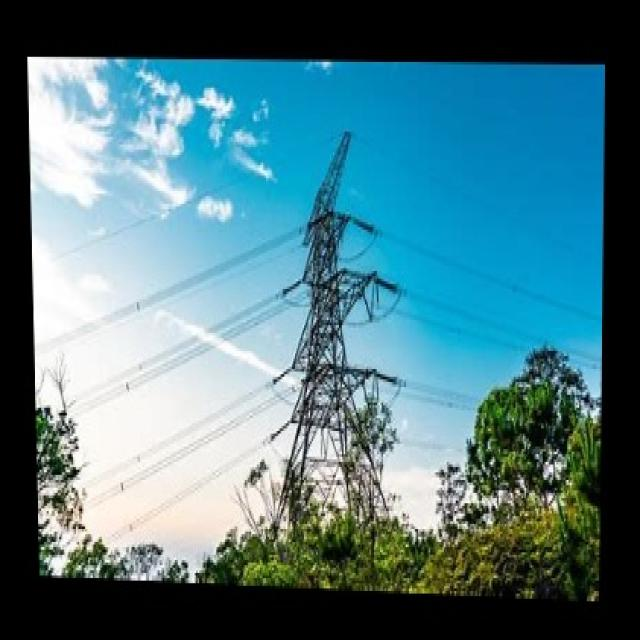utility poles: (287, 374, 411, 558), (468, 286, 575, 490)
